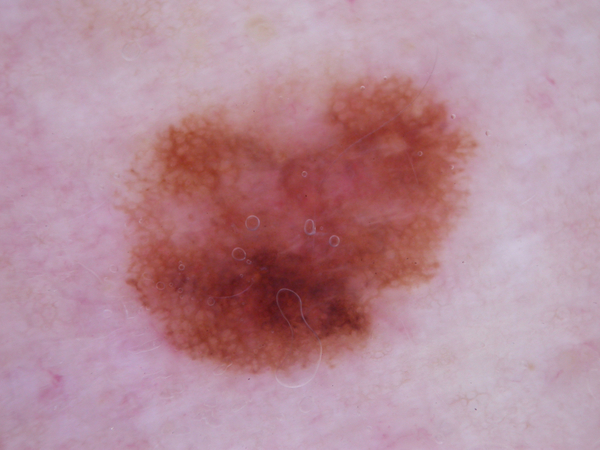Detected Lesion: (119, 69, 479, 373)
